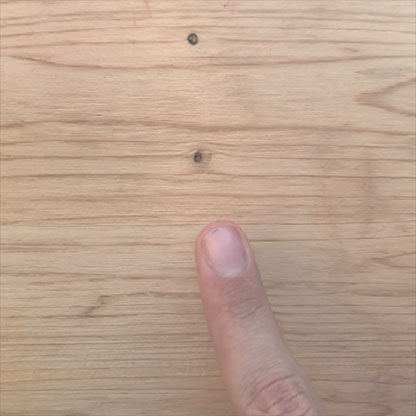fingertip: (184, 210, 271, 296)
